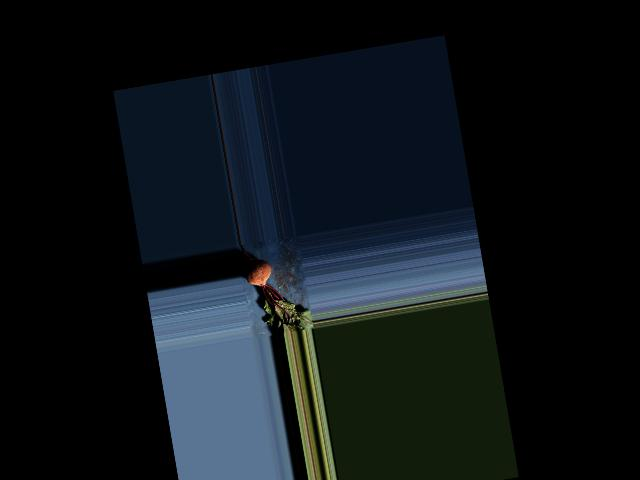beet: (239, 235, 314, 339)
